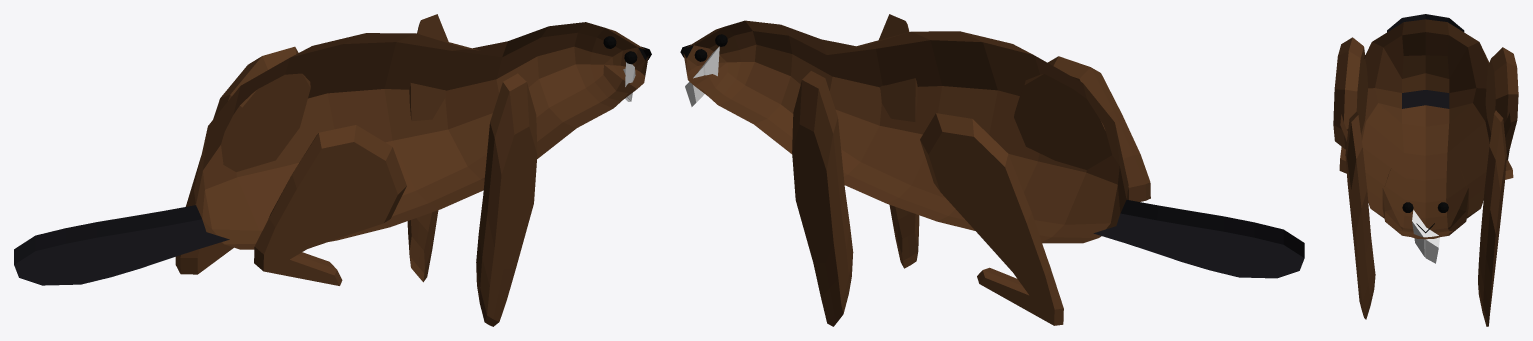
Rendered from Beaver.fbx.
3 views of the same model, side by side, from view 1: azimuth 30°, elevation 25°; view 2: azimuth 150°, elevation 25°; view 3: azimuth 270°, elevation 25° (orthographic). The views are drawn at different scales.
Visible parts, largest first — view 1: Plane, Circle.001, Circle.003, Circle, Circle.002; view 2: Plane, Circle, Circle.002, Circle.001, Circle.003, Cube; view 3: Plane, Circle.002, Circle.003, Circle.001, Circle, Cube.
Part boxes in pixels (bbox=[...]): Plane: bbox=[14, 22, 651, 285]; Circle.001: bbox=[254, 125, 406, 285]; Circle.003: bbox=[476, 73, 537, 326]; Circle: bbox=[175, 46, 310, 274]; Circle.002: bbox=[407, 14, 448, 282]; Plane: bbox=[680, 20, 1304, 278]; Circle: bbox=[920, 113, 1063, 325]; Circle.002: bbox=[792, 71, 853, 326]; Circle.001: bbox=[1014, 56, 1150, 201]; Circle.003: bbox=[879, 14, 919, 268]; Cube: bbox=[685, 46, 719, 106]; Plane: bbox=[1340, 14, 1510, 239]; Circle.002: bbox=[1478, 110, 1506, 326]; Circle.003: bbox=[1345, 111, 1375, 319]; Circle.001: bbox=[1333, 37, 1367, 173]; Circle: bbox=[1485, 47, 1518, 179]; Cube: bbox=[1412, 210, 1439, 263].
Size of the model in its own units: 1047 by 460 by 315.
